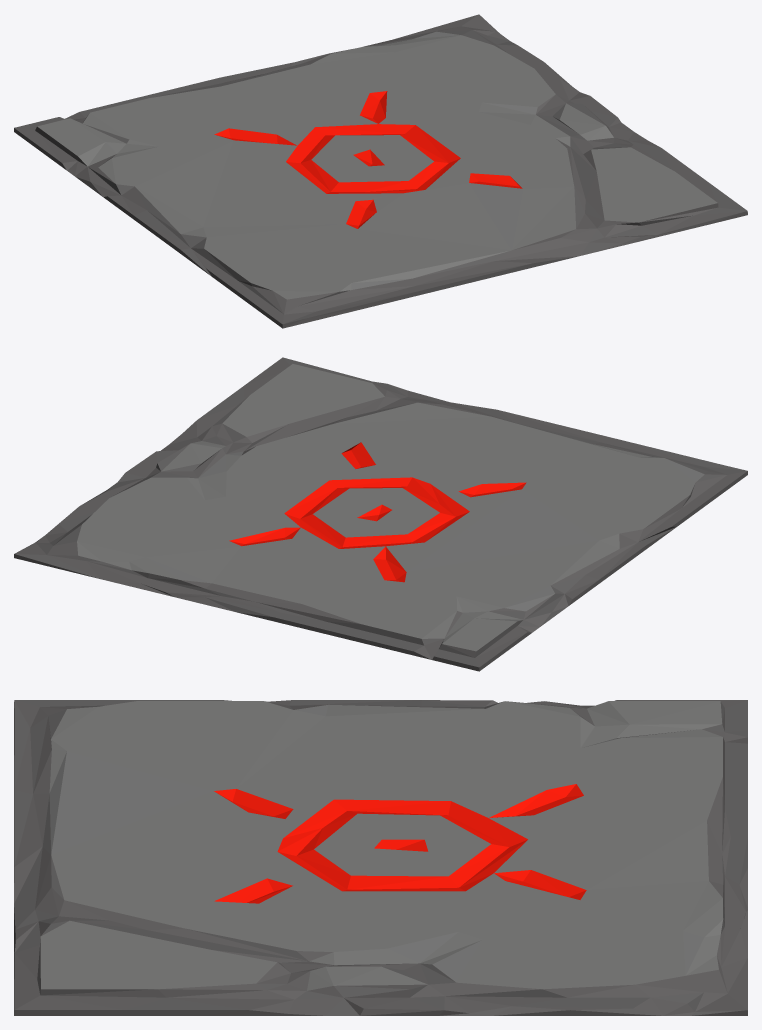
Rendered from SM_Env_Tiles_Rune_04.FBX.
The picture shows the model from 3 angles, top to bottom: view 1: azimuth 30°, elevation 25°; view 2: azimuth 150°, elevation 25°; view 3: azimuth 270°, elevation 25°; orthographic projection. The views are drawn at different scales.
Visible parts, largest first — view 1: SM_Env_Tiles_Rune_04; view 2: SM_Env_Tiles_Rune_04; view 3: SM_Env_Tiles_Rune_04.
Boxes of the visible parts, x1,y1,x2,y2 form: SM_Env_Tiles_Rune_04: (14,14,747,328); SM_Env_Tiles_Rune_04: (14,357,747,671); SM_Env_Tiles_Rune_04: (14,700,747,1015).
Size of what is drawn, in the model's own units: 500 by 500 by 10.14.
